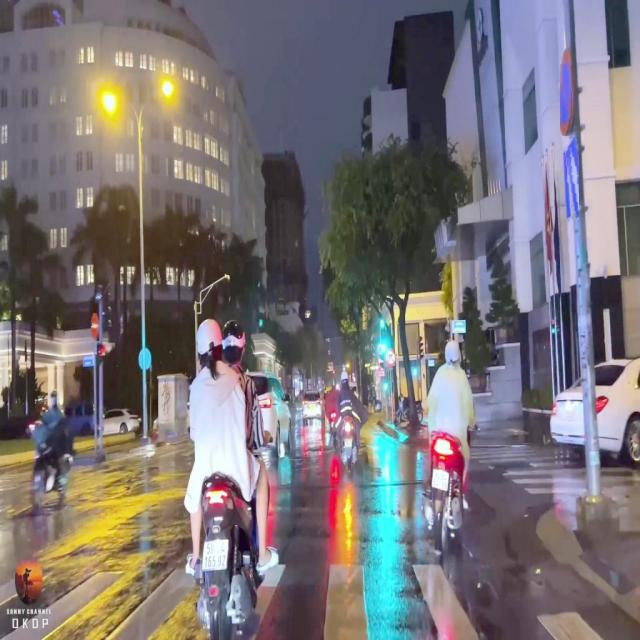cam_do_xe: (560, 50, 574, 136)
cam_re_phai: (386, 348, 396, 366)
cam_xe_di_nguoc_chieu: (91, 312, 99, 338)
duong_mot_chieu: (563, 134, 579, 220)
